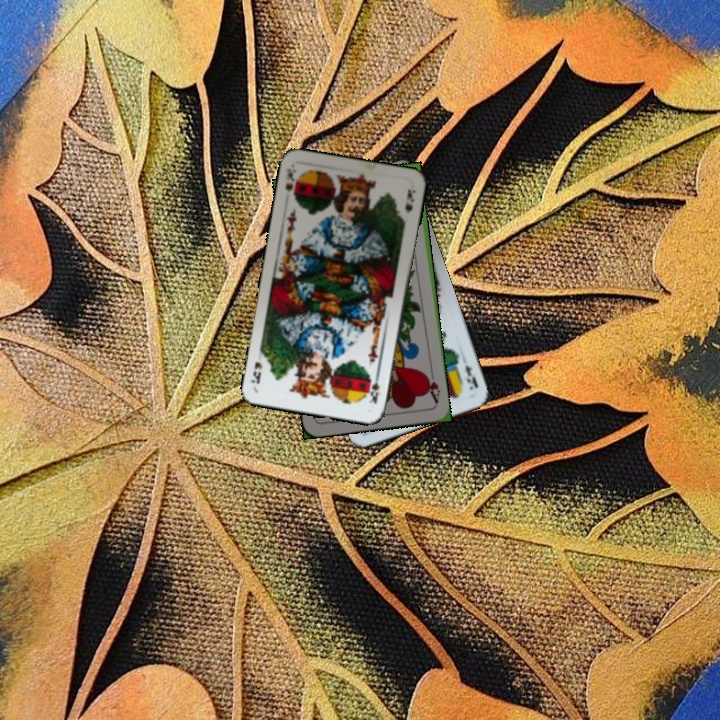EK: (461, 361, 481, 391)
HA: (421, 366, 443, 406)
SK: (281, 164, 301, 203), (365, 368, 382, 406)
